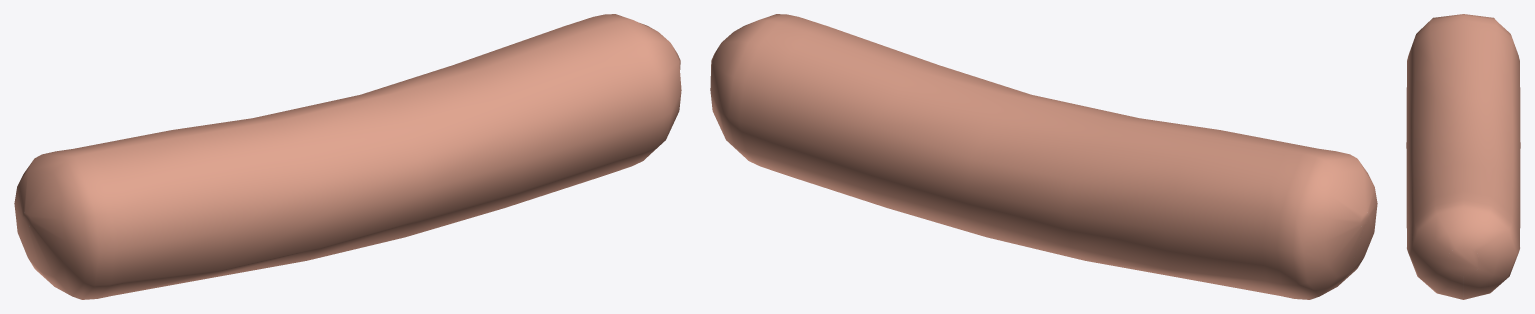
File: sausage 1.fbx
The picture shows the model from 3 angles, left to right: view 1: azimuth 30°, elevation 25°; view 2: azimuth 150°, elevation 25°; view 3: azimuth 270°, elevation 25°; orthographic projection. The views are drawn at different scales.
Visible parts, largest first — view 1: Cylinder; view 2: Cylinder; view 3: Cylinder.
Boxes of the visible parts, x1=… form: Cylinder: x1=14, y1=14, x2=681, y2=299; Cylinder: x1=710, y1=14, x2=1377, y2=299; Cylinder: x1=1406, y1=14, x2=1520, y2=299.
Bounding box in the file's own units: 20.57 × 4.73 × 4.44.
Materials: 1 (1 with a texture image).
